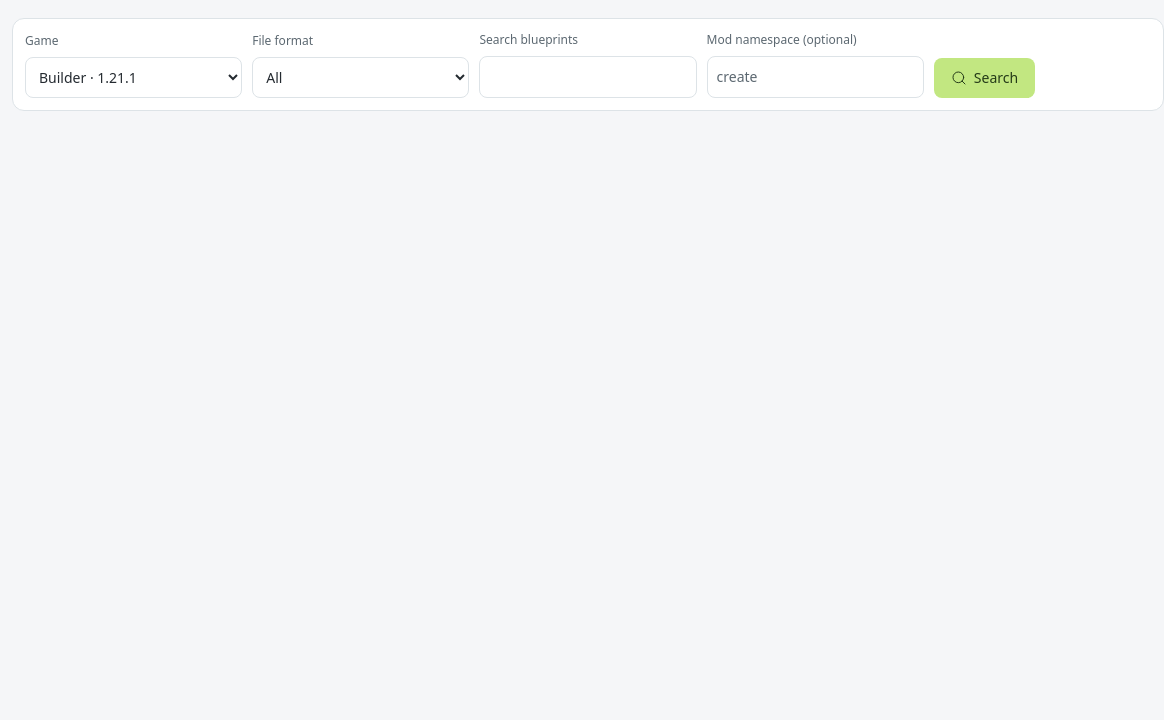
it: does not enable current Viewer preview for an unsupported provider format
The width and height of the screenshot is (1164, 720).
Submit the form, box [12,18,1163,111]
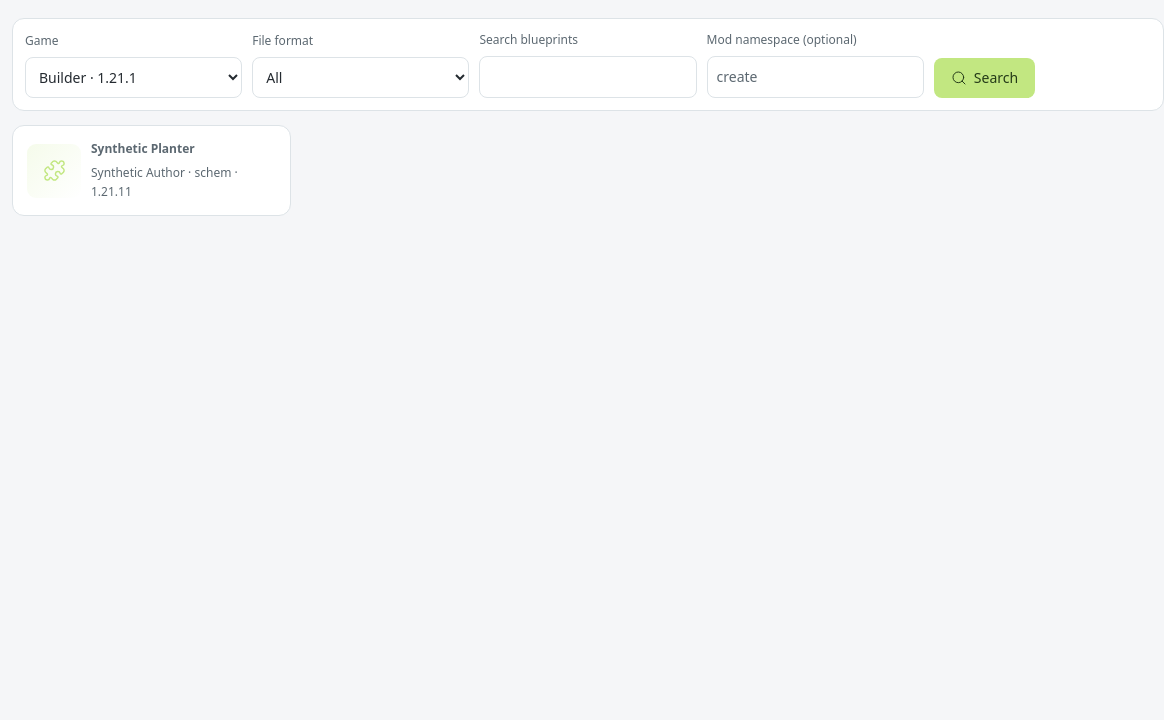
Click the button "Synthetic Planter Synthetic Author · schem · 1.21.11" at (152, 171), box [23,136,280,205]
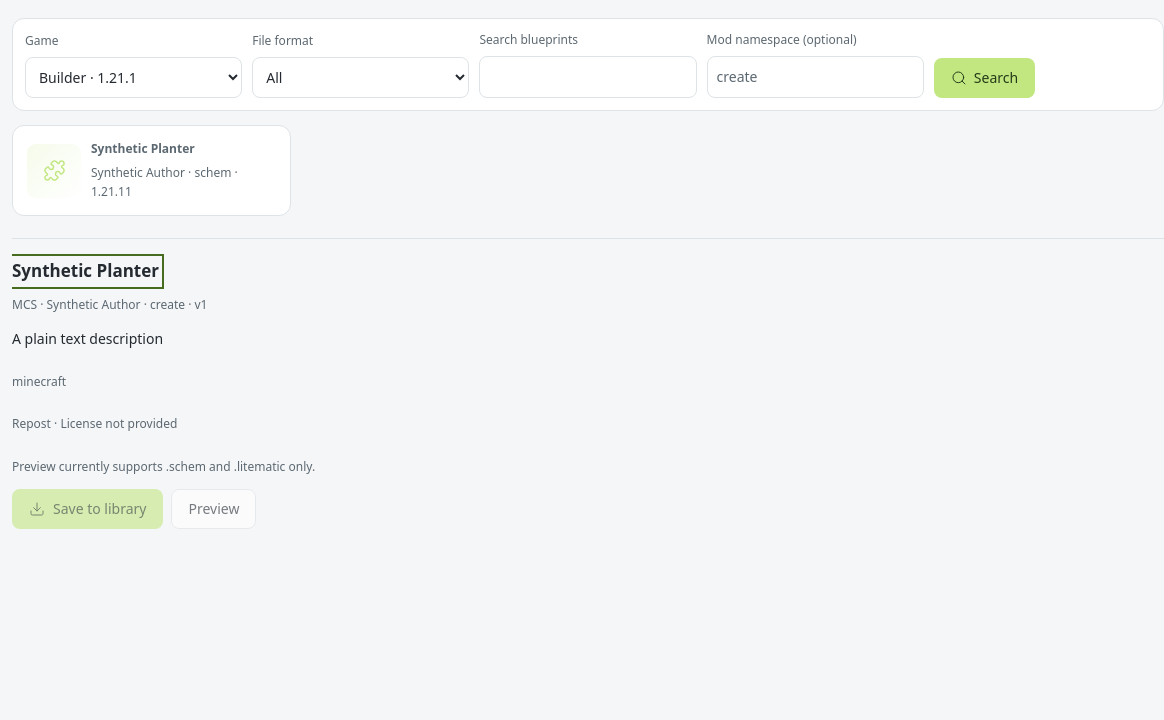
Result: the button "Preview" is disabled at [172,489,256,529]
Result: the text "Preview currently supports .schem and .litematic only." is shown at [12,457,315,477]
